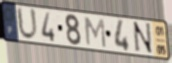4: (114, 18, 131, 53), (40, 11, 57, 44)
8: (64, 13, 83, 47)
M: (83, 16, 108, 50)
N: (132, 21, 155, 56)
U: (15, 5, 39, 42)
